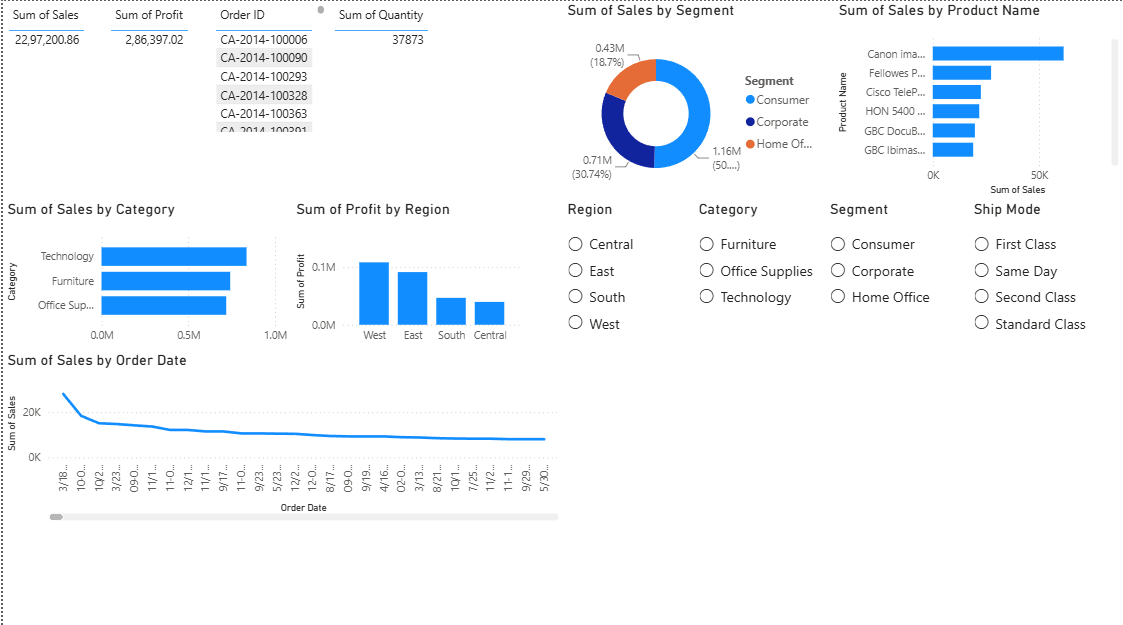

The page's visual inventory and layout, read from the dashboard file:
{"tool":"powerbi","page":{"name":"Page 1","canvas":[1280,720],"ordinal":0},"visuals":[{"type":"tableEx","fields":{"Values":["Sum(Sample_ Superstore.Sales)"]},"box":[0,0.5,107.1,152.9],"z":0},{"type":"tableEx","fields":{"Values":["Sum(Sample_ Superstore.Profit)"]},"box":[117.1,0,118.6,154.3],"z":1000},{"type":"tableEx","fields":{"Values":["Sample_ Superstore.Order ID"]},"box":[237.1,0,135.7,154.3],"z":2000},{"type":"tableEx","fields":{"Values":["Sum(Sample_ Superstore.Quantity)"]},"box":[372.9,0,132.9,154.3],"z":3000},{"type":"clusteredBarChart","fields":{"Y":["Sum(Sample_ Superstore.Sales)"],"Category":["Sample_ Superstore.Category"]},"box":[0,227.1,330,172.9],"z":4000},{"type":"clusteredColumnChart","fields":{"Category":["Sample_ Superstore.Region"],"Y":["Sum(Sample_ Superstore.Profit)"]},"box":[330,227.1,267.1,172.9],"z":5000},{"type":"lineChart","fields":{"Category":["Sample_ Superstore.Order Date"],"Y":["Sum(Sample_ Superstore.Sales)"]},"box":[0,400,640,198.6],"z":6000},{"type":"donutChart","fields":{"Category":["Sample_ Superstore.Segment"],"Y":["Sum(Sample_ Superstore.Sales)"]},"box":[640,0,300,227.1],"z":6001},{"type":"clusteredBarChart","fields":{"Category":["Sample_ Superstore.Product Name"],"Y":["Sum(Sample_ Superstore.Sales)"]},"box":[950,0,330,227.1],"z":6002},{"type":"listSlicer","fields":{"Values":["Sample_ Superstore.Region"]},"box":[640,227.1,164.3,172.9],"z":6003},{"type":"listSlicer","fields":{"Values":["Sample_ Superstore.Category"]},"box":[790,227.1,164,199],"z":6004},{"type":"listSlicer","fields":{"Values":["Sample_ Superstore.Segment"]},"box":[940,227.1,164,173],"z":6005},{"type":"listSlicer","fields":{"Values":["Sample_ Superstore.Ship Mode"]},"box":[1104.3,227.1,164,173],"z":6006}]}

Visuals, with their boxes in screenshot pixels (x1, y1, x2, y2), scaled from the page's 1280x720 canvas onto the 1123x625 screenshot:
tableEx - Sum(Sample_ Superstore.Sales): 0:0:94:133
tableEx - Sum(Sample_ Superstore.Profit): 103:0:207:134
tableEx - Sample_ Superstore.Order ID: 208:0:327:134
tableEx - Sum(Sample_ Superstore.Quantity): 327:0:444:134
clusteredBarChart - Sum(Sample_ Superstore.Sales) x Sample_ Superstore.Category: 0:197:290:347
clusteredColumnChart - Sample_ Superstore.Region x Sum(Sample_ Superstore.Profit): 290:197:524:347
lineChart - Sample_ Superstore.Order Date x Sum(Sample_ Superstore.Sales): 0:347:562:520
donutChart - Sample_ Superstore.Segment x Sum(Sample_ Superstore.Sales): 562:0:825:197
clusteredBarChart - Sample_ Superstore.Product Name x Sum(Sample_ Superstore.Sales): 833:0:1122:197
listSlicer - Sample_ Superstore.Region: 562:197:706:347
listSlicer - Sample_ Superstore.Category: 693:197:837:370
listSlicer - Sample_ Superstore.Segment: 825:197:969:347
listSlicer - Sample_ Superstore.Ship Mode: 969:197:1113:347
